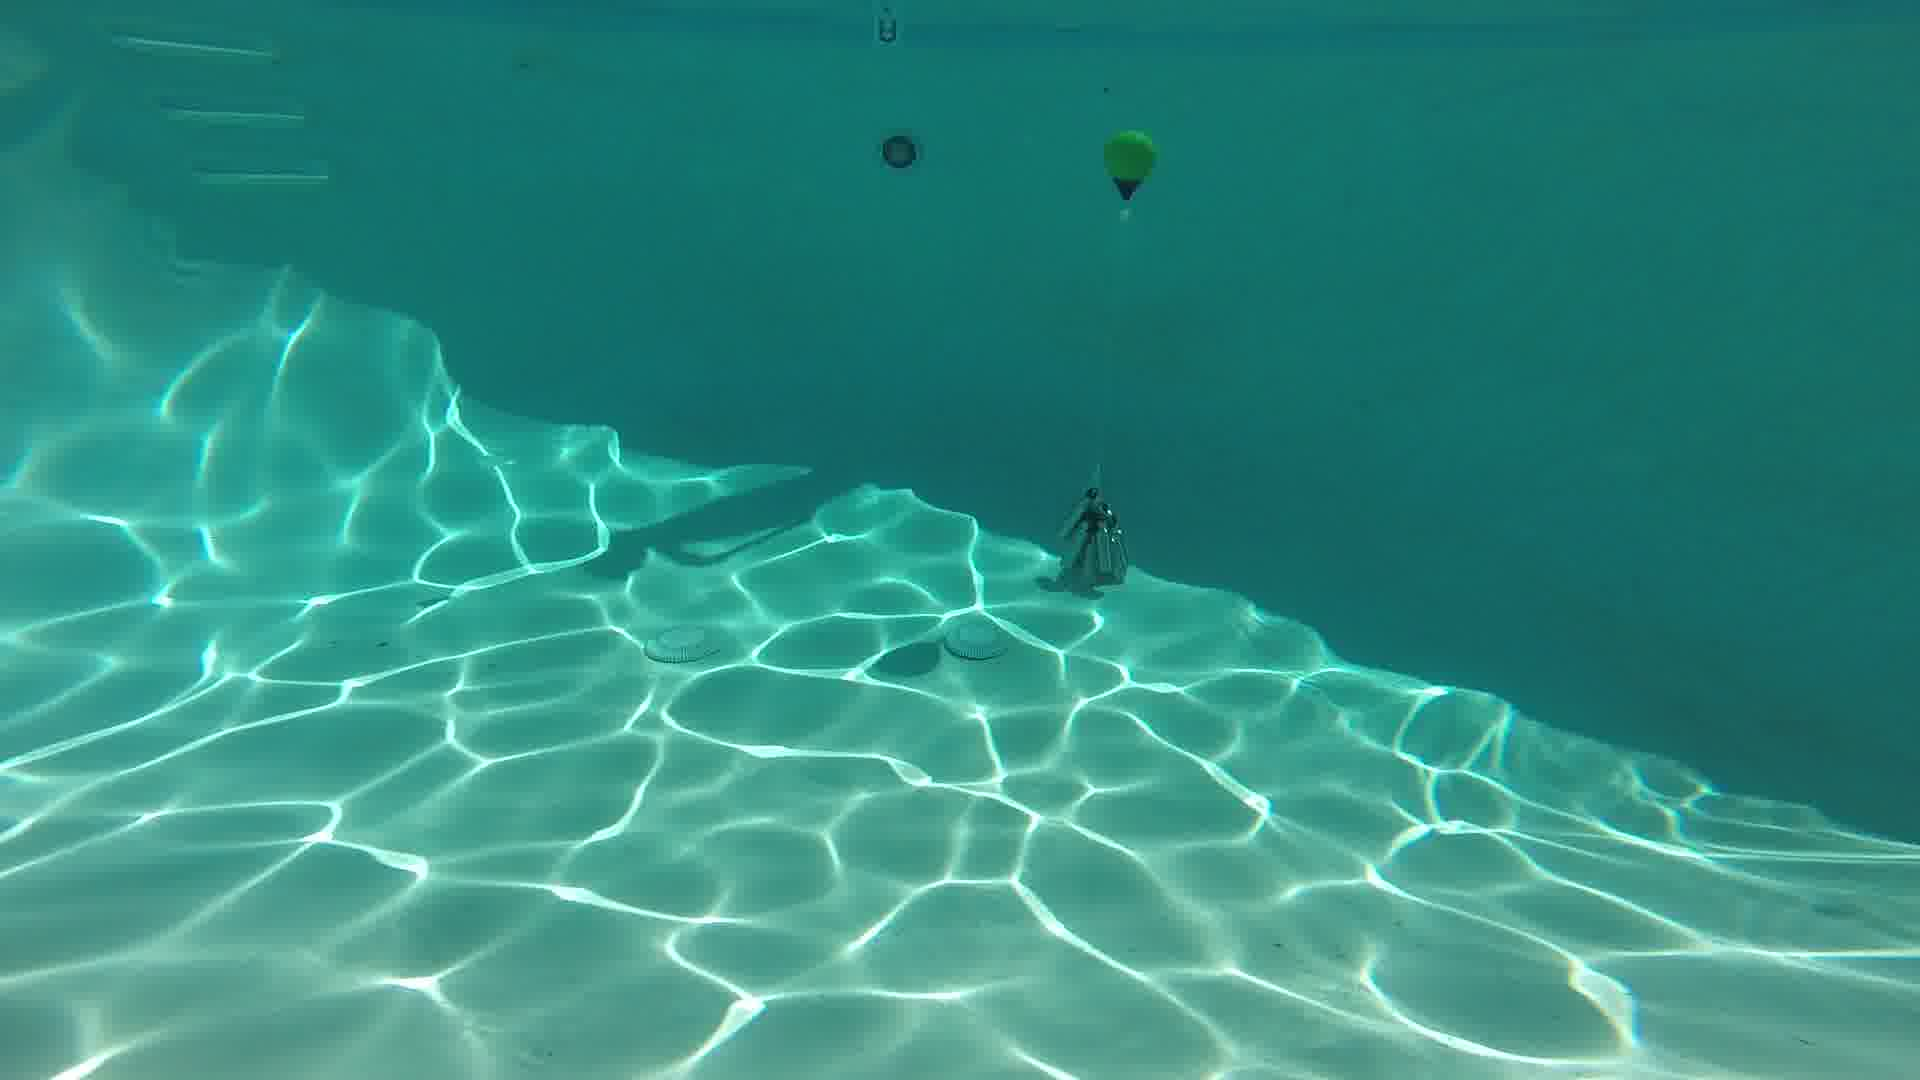yellow_buoy: (1105, 131, 1156, 202)
